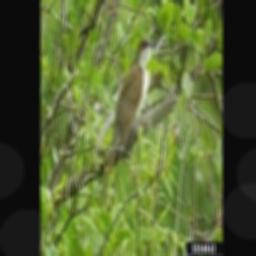Cuckoo: (102, 37, 154, 202)
